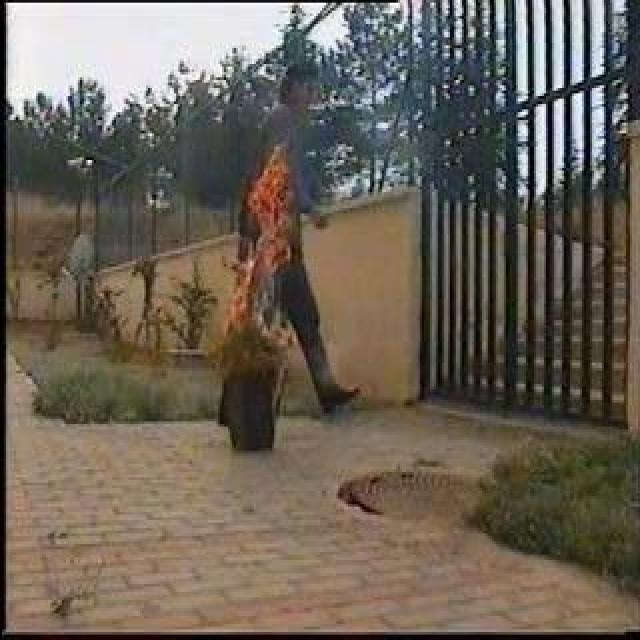fire: (252, 139, 290, 253)
